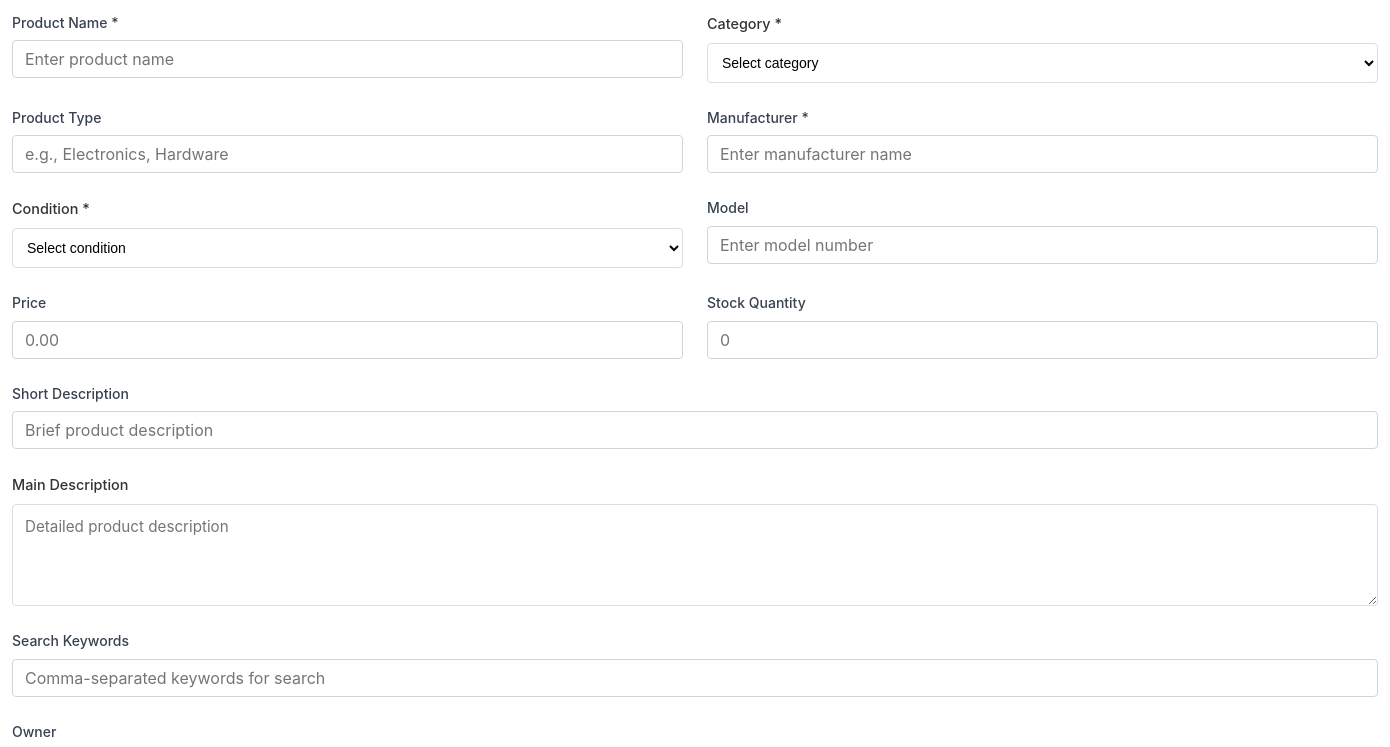
Test case: ProductForm - Real-time Validation › should clear validation error when user corrects the input
Expected: the dropdown labelled "Category *" is shown, [707,43,1378,83]
# Trigger validation error
Click the field labelled "Product Name *": [348, 59] box [12,40,683,78]
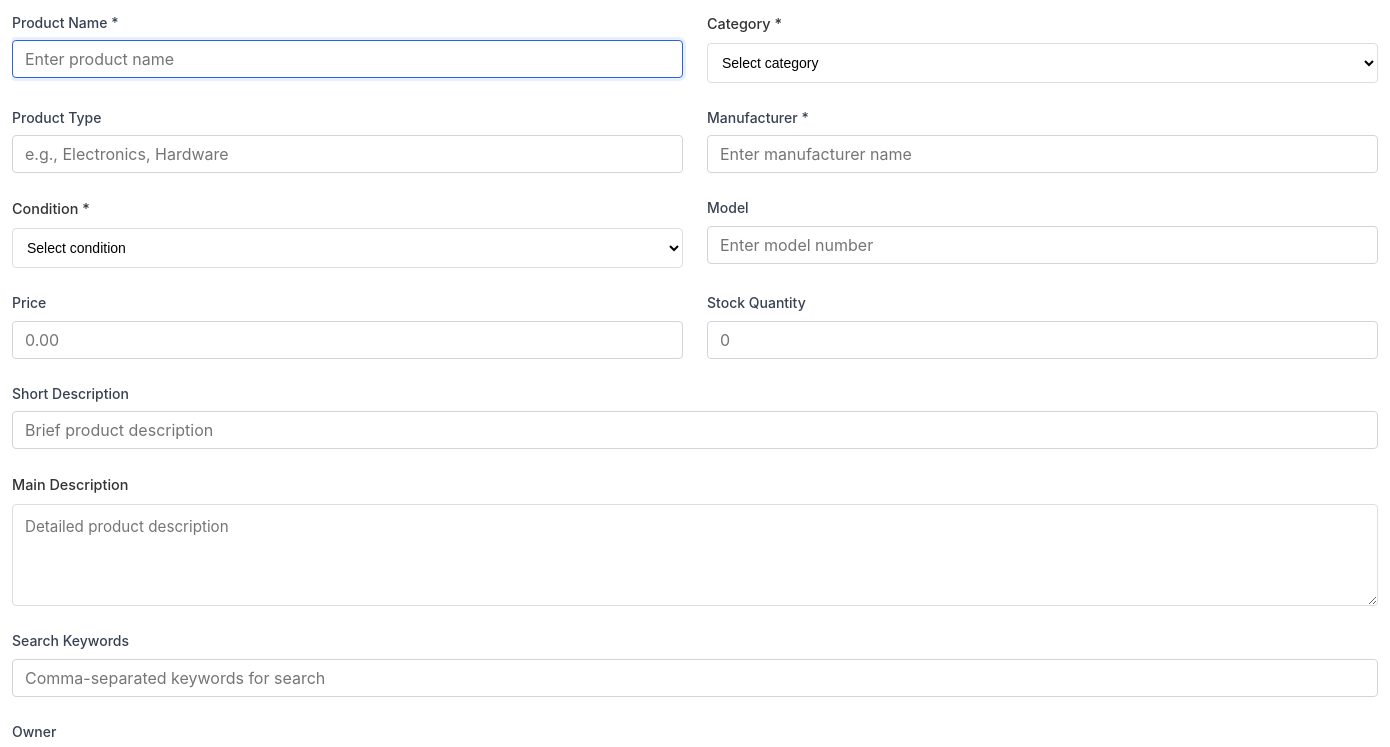
Press Tab
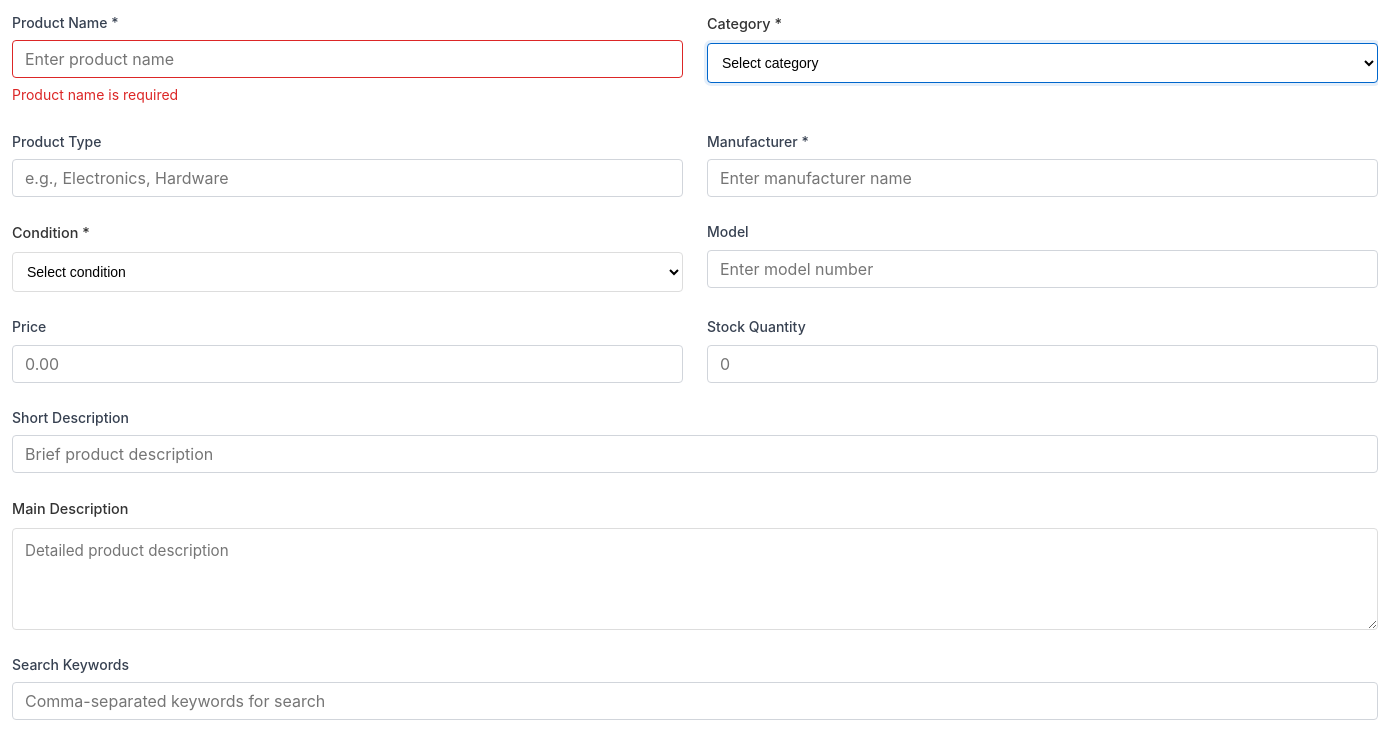
Expected: the text "Product name is required" is shown, [12,86,178,103]
# Correct the input
In the field labelled "Product Name *": [348, 59] box [12,40,683,78], type "Test Product"
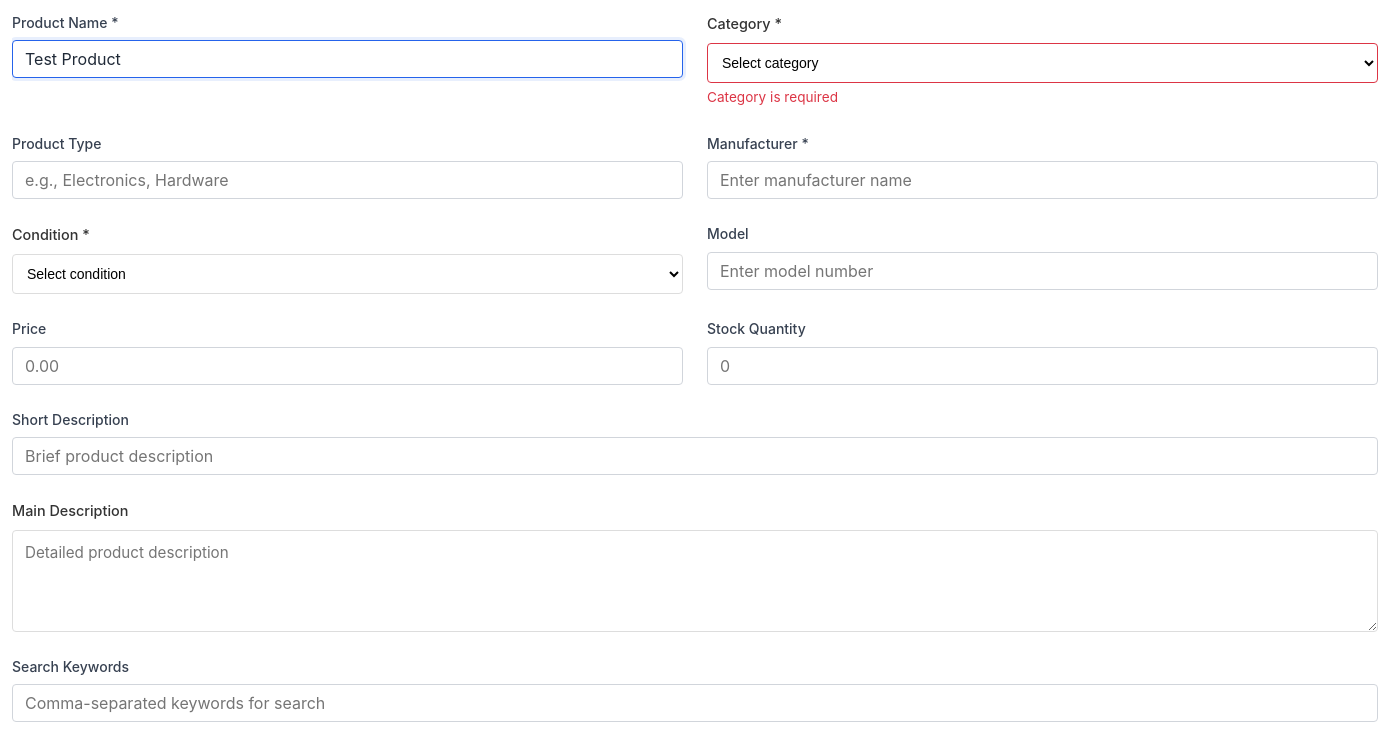
Expected: the text "Product name is required" is gone
